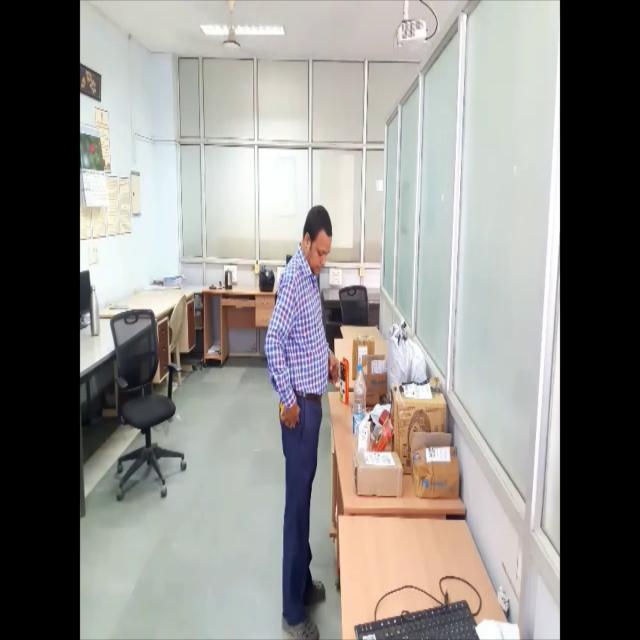shoplifting: (255, 193, 342, 640)
